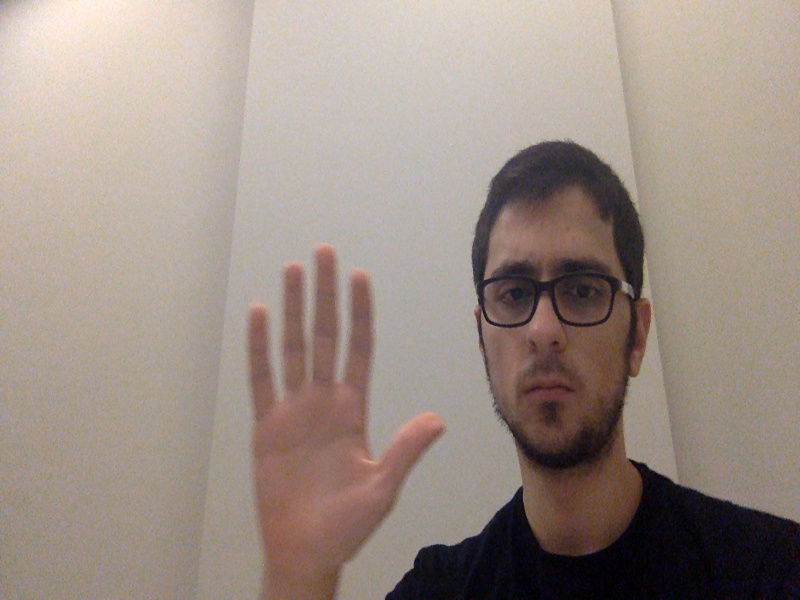5-hand: (220, 237, 451, 569)
